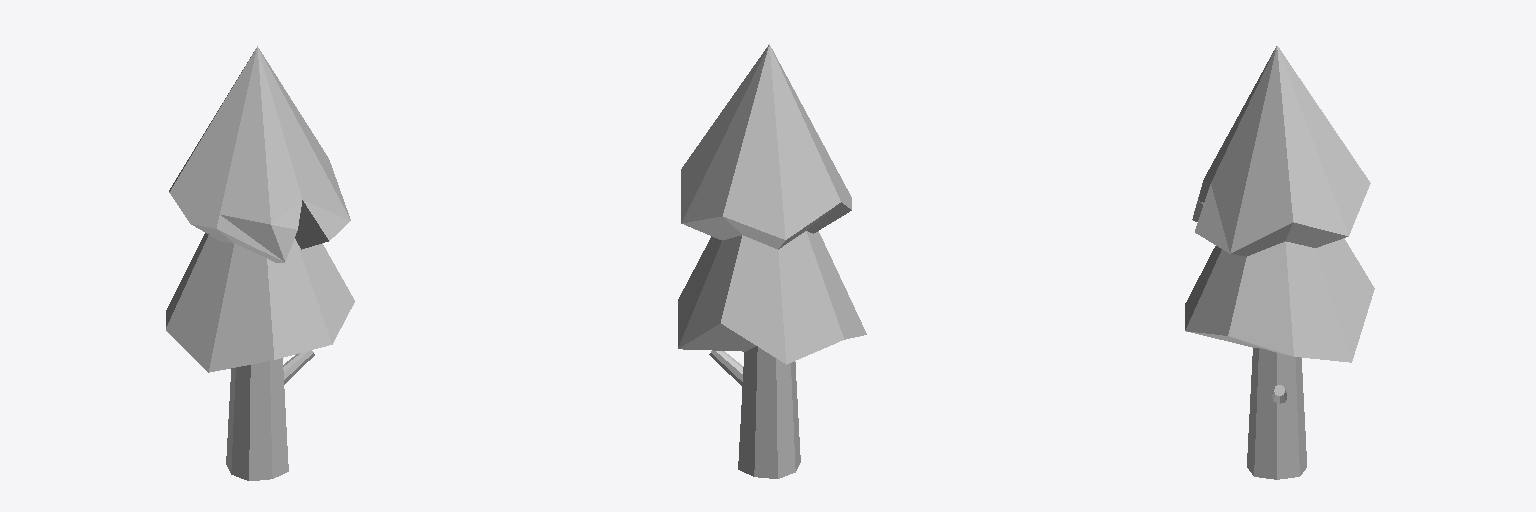
The model's file is pine_tree.obj.
3 views of the same model, side by side, from view 1: azimuth 30°, elevation 25°; view 2: azimuth 150°, elevation 25°; view 3: azimuth 270°, elevation 25° (orthographic).
Visible parts, largest first — view 1: Cube.006, Cube.007_Cube.008, Cube.004; view 2: Cube.006, Cube.004, Cube.007_Cube.008; view 3: Cube.006, Cube.007_Cube.008, Cube.004.
Part boxes in pixels (x1,y1,x2,y2): Cube.006: (166,46,354,372); Cube.007_Cube.008: (188,233,339,318); Cube.004: (226,350,314,480); Cube.006: (678,44,866,364); Cube.004: (709,346,800,478); Cube.007_Cube.008: (701,231,838,304); Cube.006: (1185,46,1374,362); Cube.007_Cube.008: (1202,238,1352,302); Cube.004: (1247,348,1306,479).
Size of the model in its own units: 2.43 by 5.87 by 2.39.